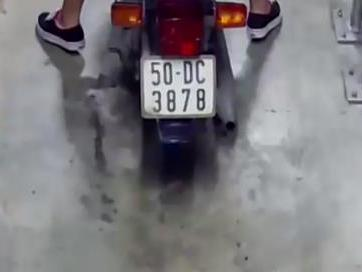num_plate: (139, 54, 217, 118)
